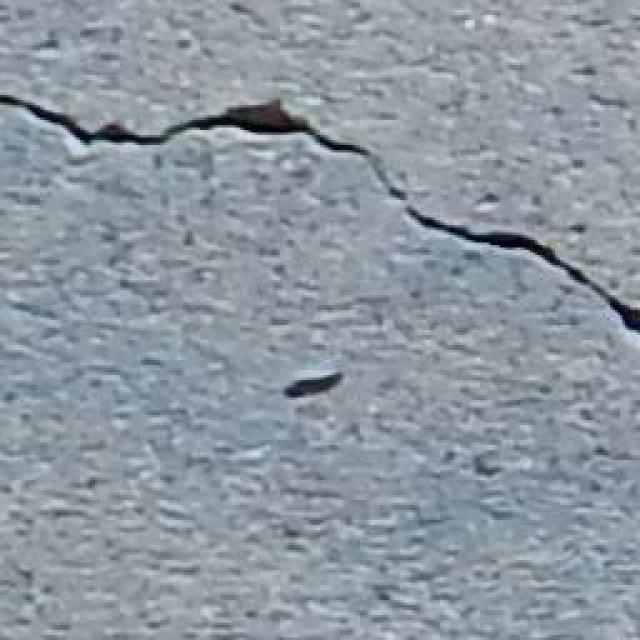concrete-crack: (5, 96, 638, 338), (280, 375, 342, 402)
